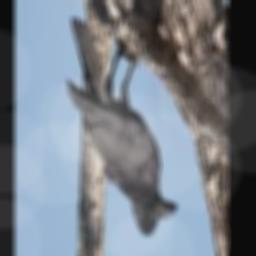Crow: (67, 15, 178, 237)
